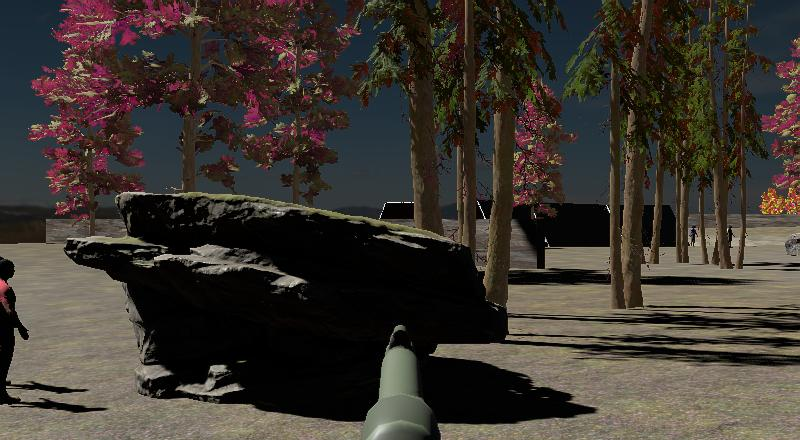Human: (0, 254, 32, 408)
Tank: (784, 225, 800, 259)
